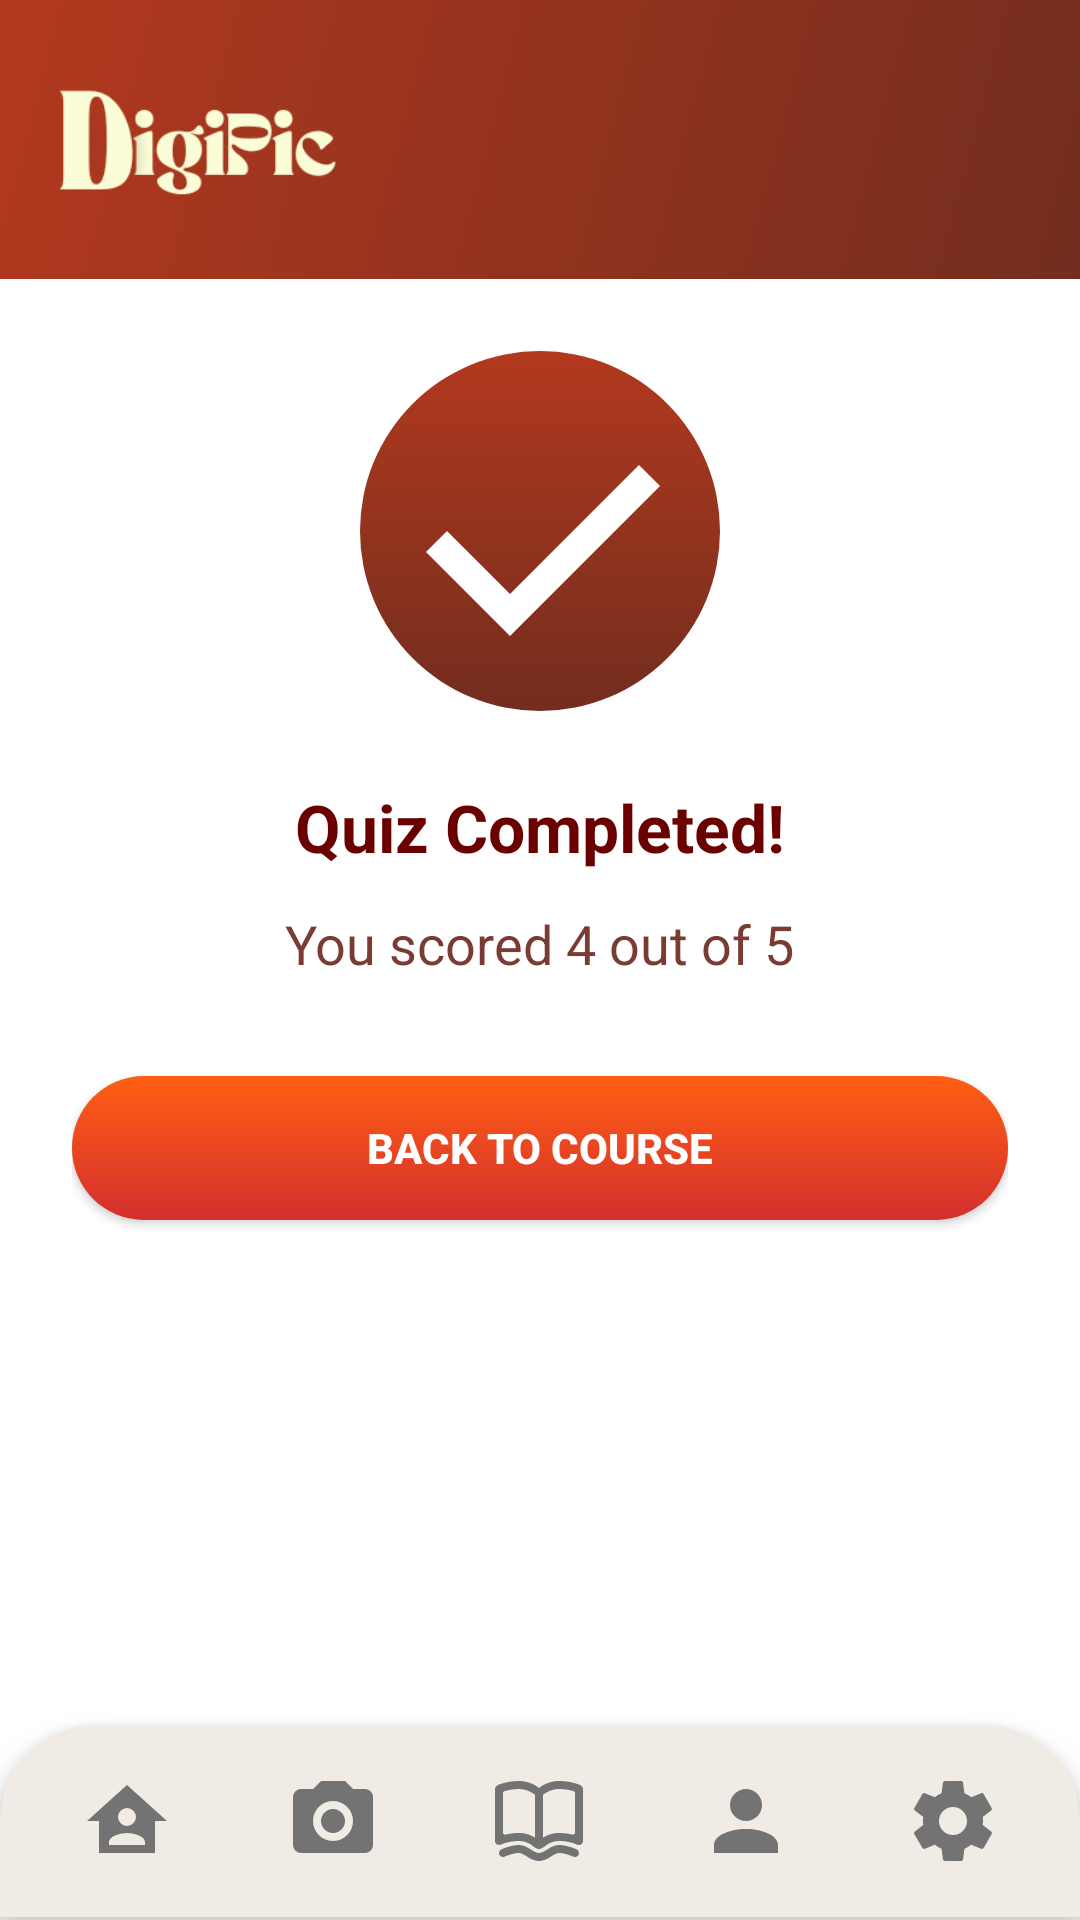

Screen size 1080×1920. Icon name, then its center in pixels as (x,y):
Home: (127,1819)
Profile: (746,1821)
Settings: (953,1821)
